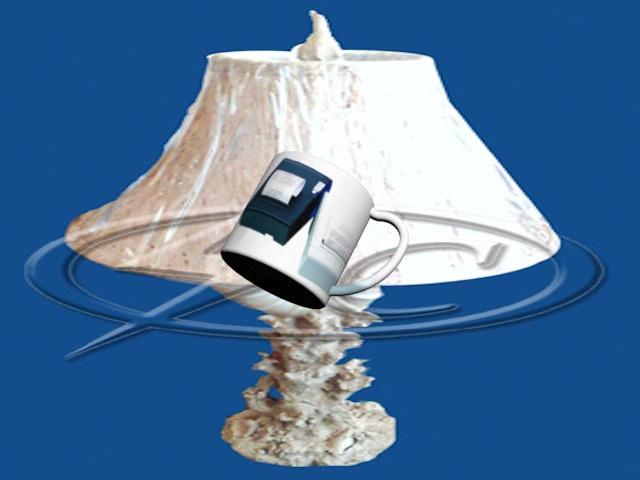mug: (217, 144, 416, 312)
